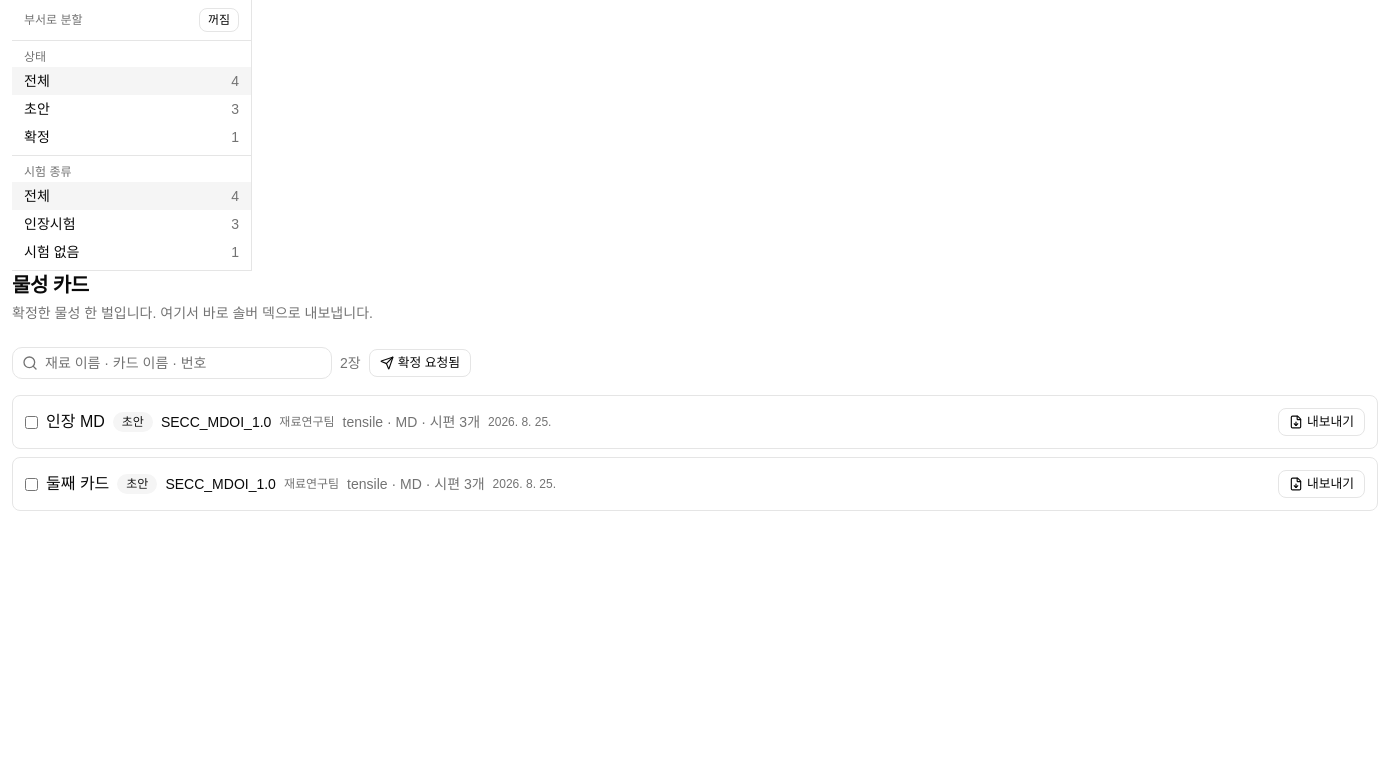
Scenario: 묶음 내보내기 › 띠는 하나이고 담기가 기본 탭이다
Click the checkbox named "인장 MD 묶음에 추가" at (32, 422), box [25,416,38,428]
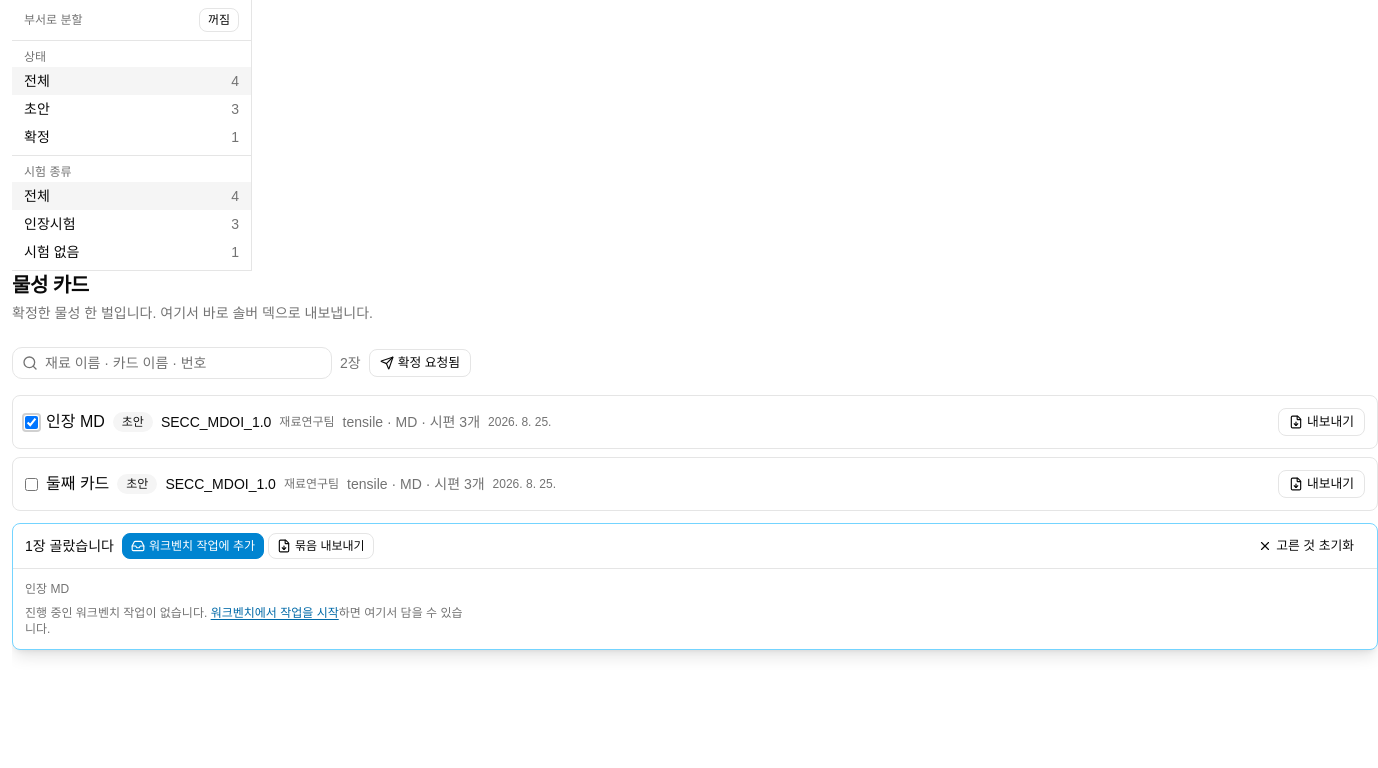
Expected: the text "진행 중인 워크벤치 작업이 없습니다. 워크벤치에서 작업을 시작 하면 여기서 담을 수 있습니다." is shown, [25,605,473,637]
